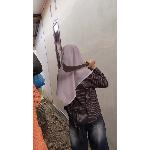Golok: (60, 58, 96, 76)
